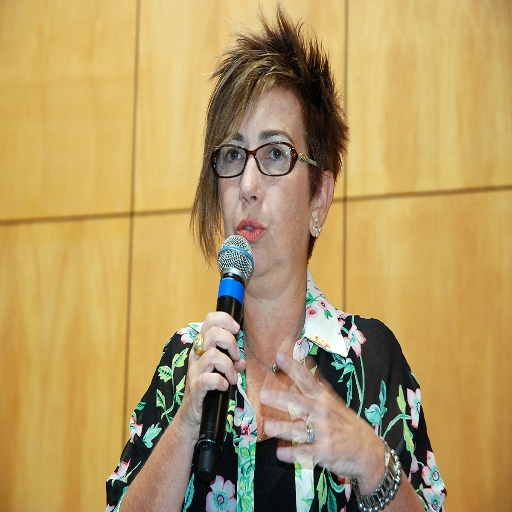hand: (244, 347, 352, 451), (183, 308, 245, 428)
